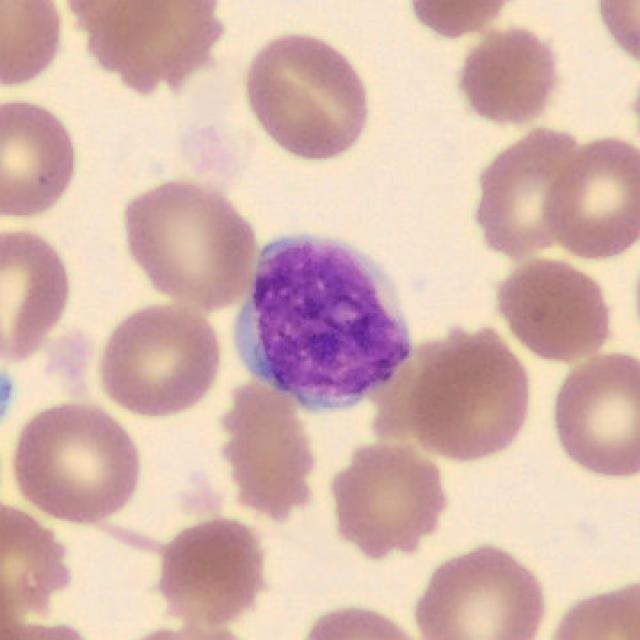Linfocito: (242, 235, 412, 409)
